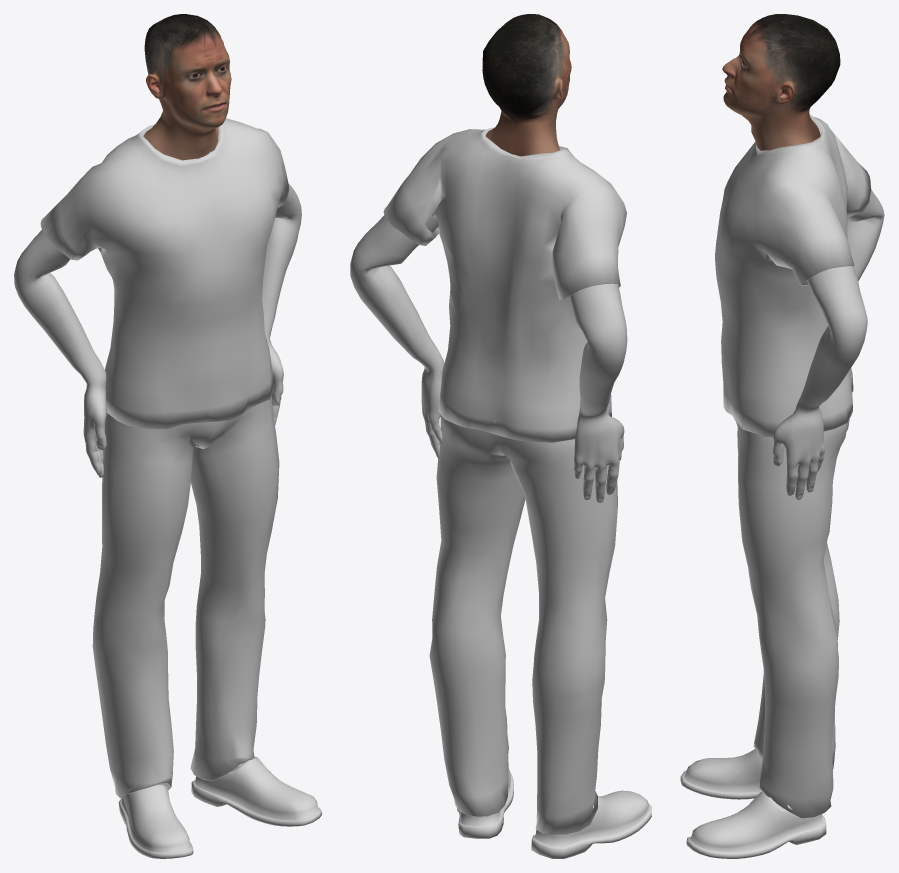
The model's file is pose_5.fbx.
The picture shows the model from 3 angles, left to right: view 1: azimuth 30°, elevation 25°; view 2: azimuth 150°, elevation 25°; view 3: azimuth 270°, elevation 25°; orthographic projection. The views are drawn at different scales.
Visible parts, largest first — view 1: clothes.004, body.005, head_1.005; view 2: clothes.004, body.005, head_1.005; view 3: clothes.004, head_1.005, body.005.
Boxes of the visible parts, left/top/right/bottom form: clothes.004: left=40, top=118, right=321, bottom=858; body.005: left=14, top=183, right=301, bottom=770; head_1.005: left=143, top=14, right=231, bottom=160; clothes.004: left=383, top=127, right=651, bottom=858; body.005: left=350, top=215, right=627, bottom=502; head_1.005: left=482, top=14, right=571, bottom=156; clothes.004: left=680, top=114, right=870, bottom=858; head_1.005: left=722, top=14, right=840, bottom=150; body.005: left=773, top=188, right=884, bottom=808.
Bounding box in the file's own units: 0.5615 × 1.55 × 0.3594.
